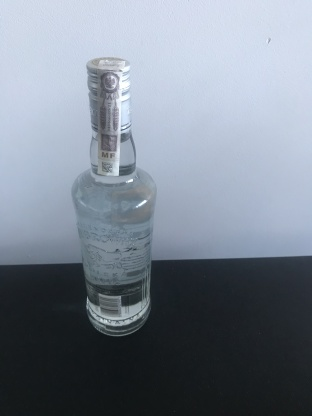nakretka: (84, 54, 135, 135)
